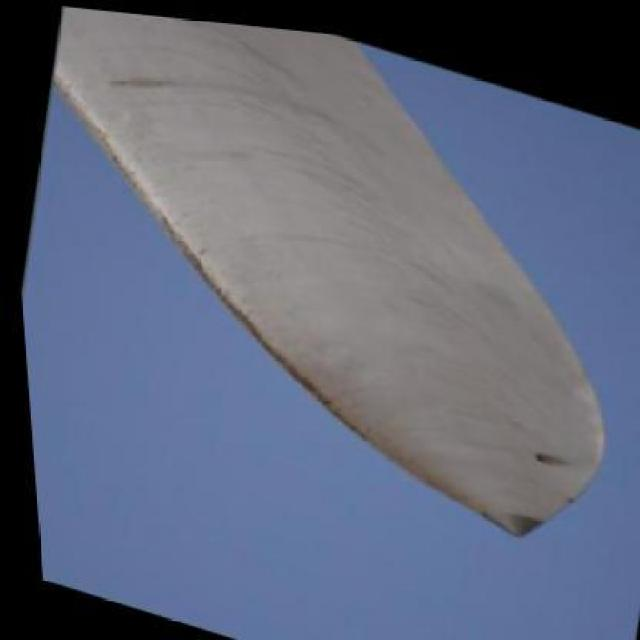Burn Mark: (523, 436, 568, 458)
EROSION: (90, 134, 388, 476)
